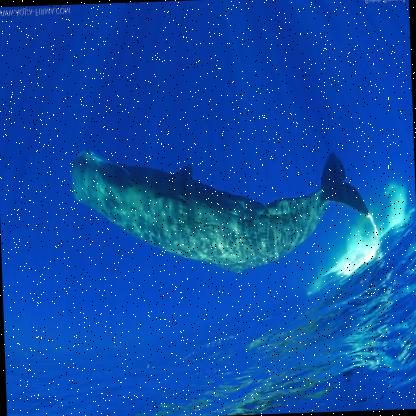sperm_whale: (43, 80, 398, 312)
